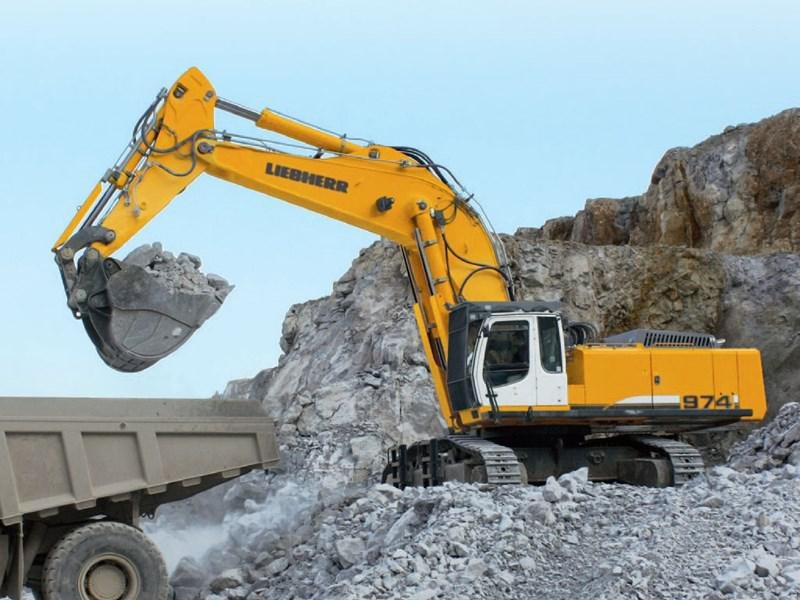shovel: (44, 60, 772, 495)
